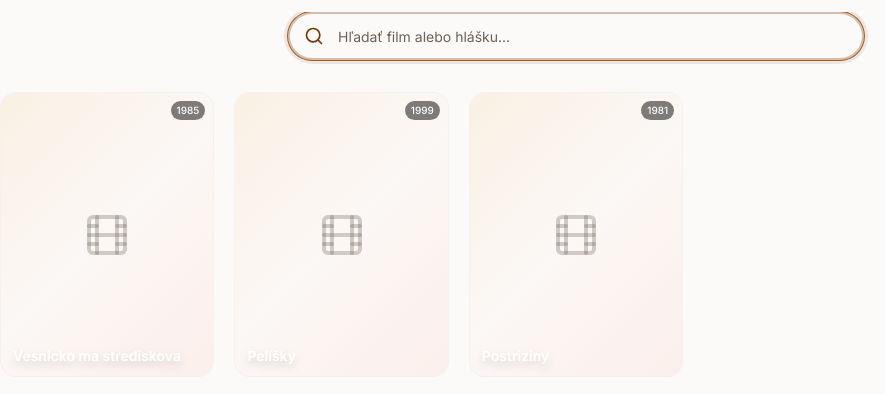
Test case: MovieSearch › shows no results message when nothing matches
This screenshot has width=885, height=394.
Step 1. Type "NonexistentMovie123" into the field with placeholder "Hľadať film alebo hlášku..." → coordinates (576, 36), box [288,12,864,60]
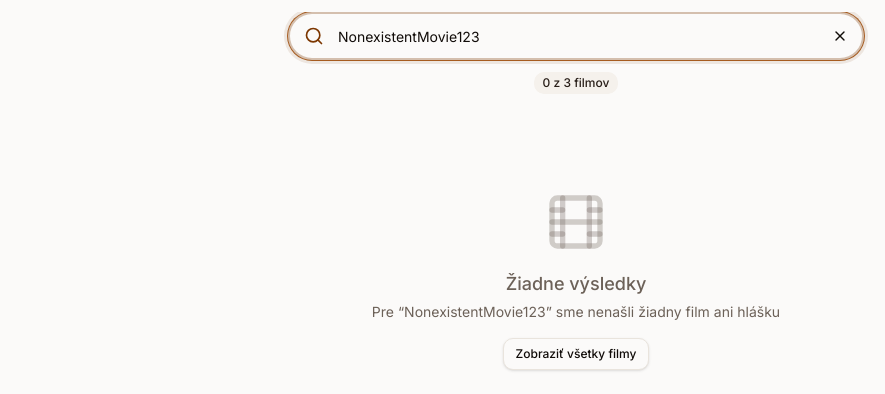
Result: the text "Žiadne výsledky" is shown at [506,273,646,294]
